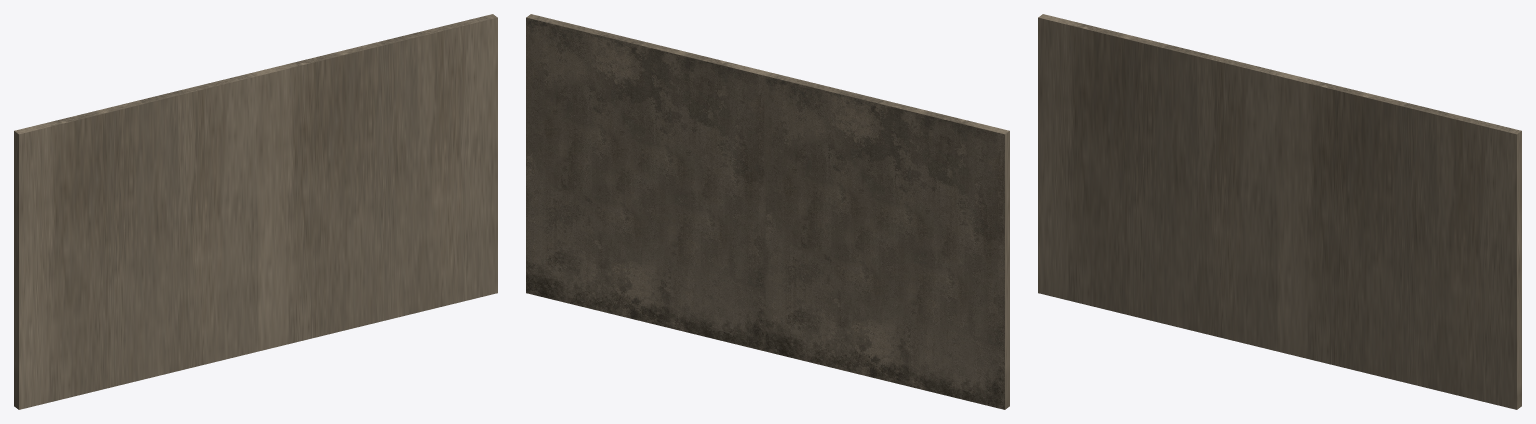
The model's file is SM_BunkerWall_4m.glb.
3 renders of one model, left to right at view 1: azimuth 30°, elevation 25°; view 2: azimuth 150°, elevation 25°; view 3: azimuth 330°, elevation 25°, orthographic.
Parts seen in each view (by area): view 1: SM_BunkerWall_4m; view 2: SM_BunkerWall_4m; view 3: SM_BunkerWall_4m.
Boxes of the visible parts, bbox=[...] form: SM_BunkerWall_4m: bbox=[14, 14, 497, 409]; SM_BunkerWall_4m: bbox=[526, 14, 1009, 409]; SM_BunkerWall_4m: bbox=[1038, 14, 1521, 409].
Bounding box in the file's own units: 4 × 2.2 × 0.0708.
Materials: 1 (1 with a texture image).
